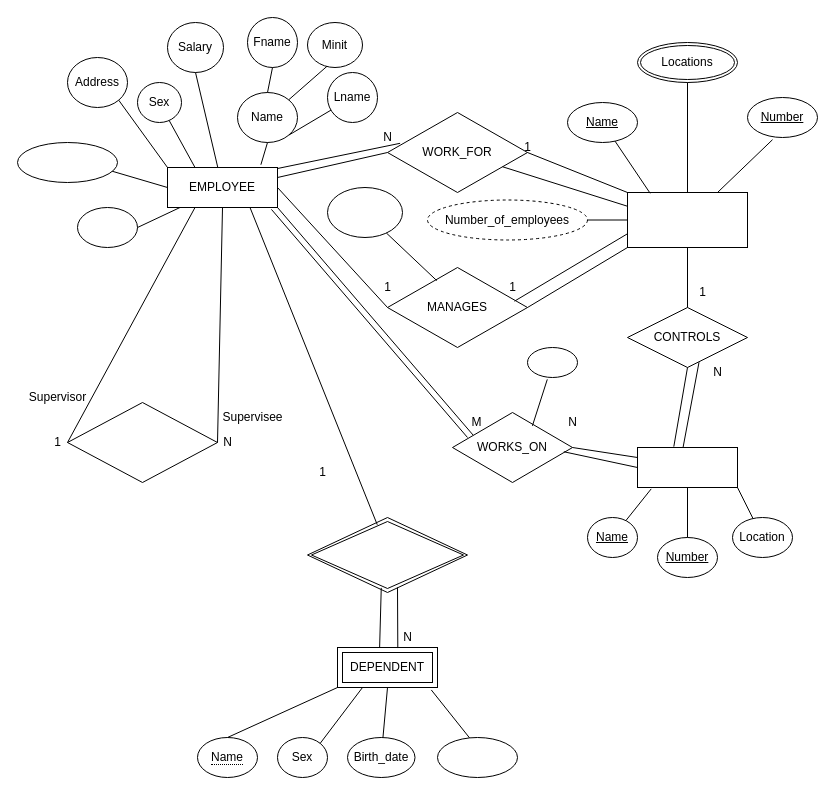
This 835x795 diagram has some shape labels left out. The shapes that lost their labels are listed below. From the top down, each one's centre as x and y in pixels, then its label:
point (67, 162): Ssn
point (107, 227): Bdate
point (364, 212): Start_Date
point (687, 220): DEPARMENT
point (552, 362): Hours
point (142, 442): SUPERVISION
point (687, 467): PROJECT
point (387, 554): DEPENDENTS_OF
point (477, 757): Relationship
